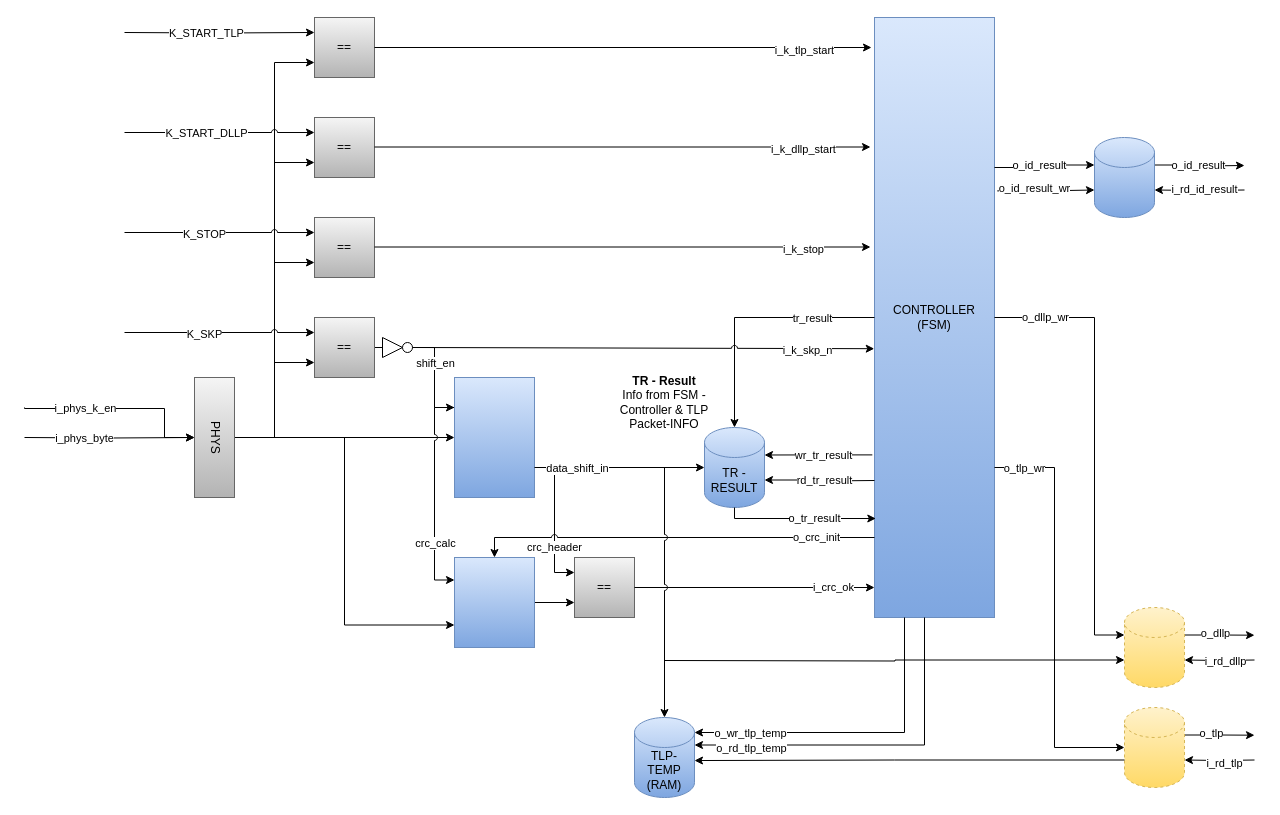
This 1280x815 diagram has some shape labels left out. The box of each missing label's shape, as (x1, y1, x2, y2) in pixels:
CRC-8: (454, 556, 534, 648)
DLLP: (1124, 606, 1184, 688)
ID - RESULT: (1094, 136, 1154, 218)
SHIFT-REG: (454, 376, 534, 498)
TLP: (1124, 706, 1184, 788)
